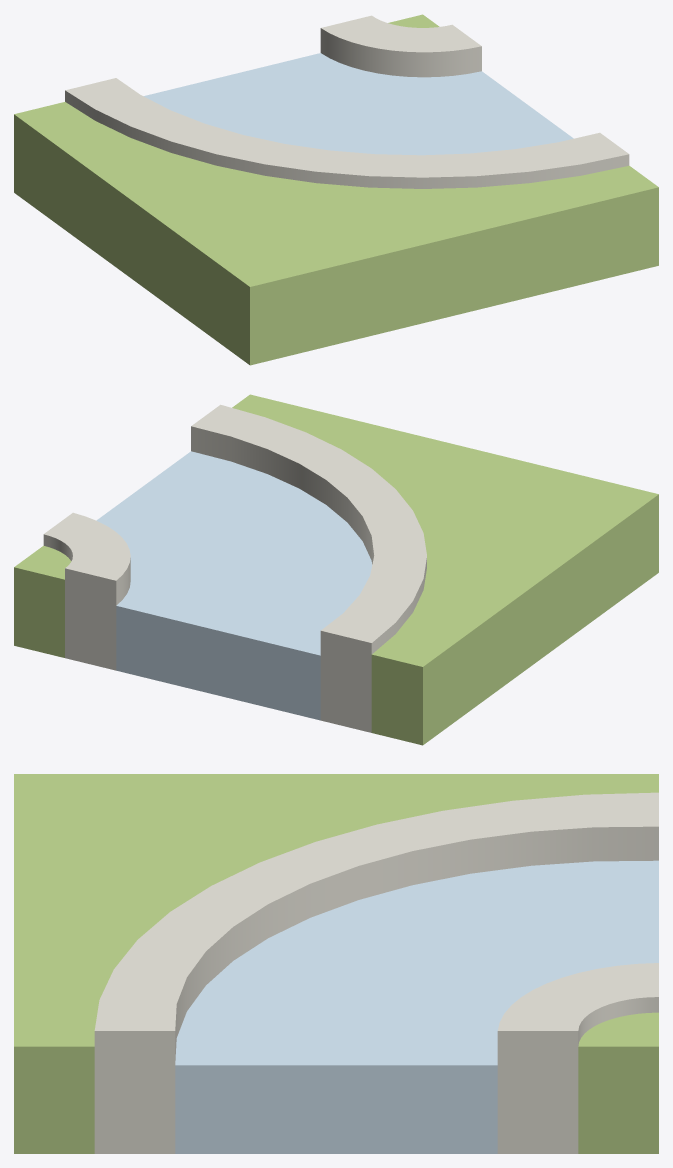
The model's file is road_tile_235.glb.
3 renders of one model, top to bottom at view 1: azimuth 30°, elevation 25°; view 2: azimuth 150°, elevation 25°; view 3: azimuth 270°, elevation 25°, orthographic. The views are drawn at different scales.
Parts seen in each view (by area): view 1: roadTile_235; view 2: roadTile_235; view 3: roadTile_235.
Part boxes in pixels (x1,y1,x2,y2): roadTile_235: (14, 14, 658, 365); roadTile_235: (14, 394, 658, 745); roadTile_235: (14, 774, 658, 1153).
Size of the model in its own units: 3 by 0.63 by 3.
